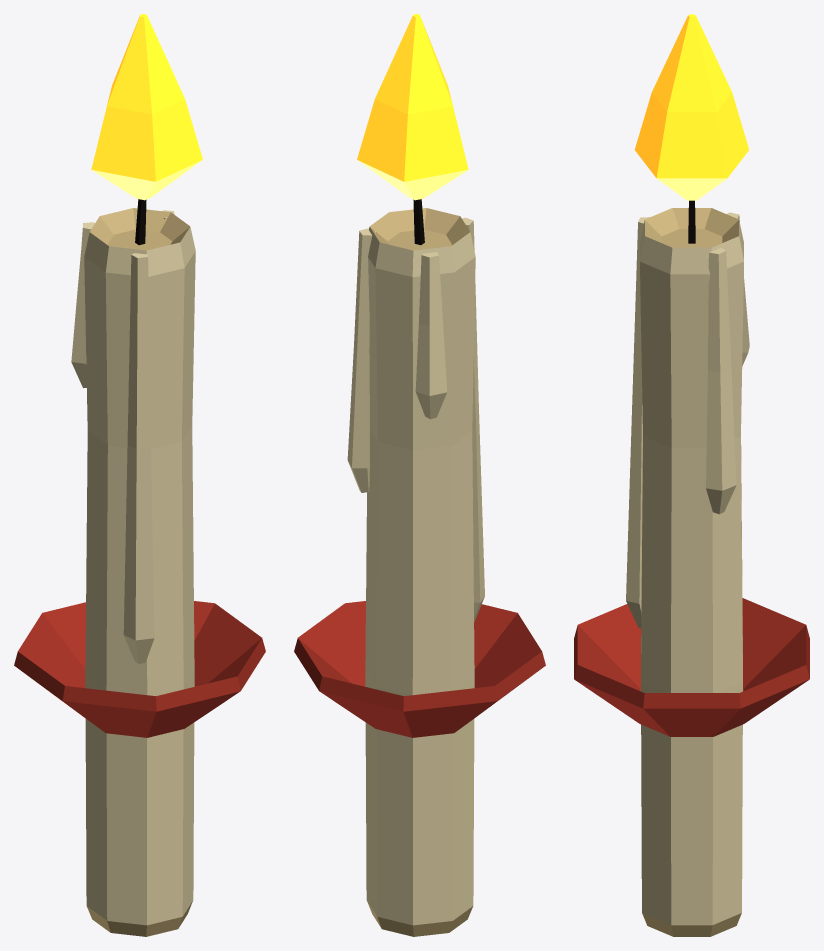
File: return_candle.glb
3 views of the same model, side by side, from view 1: azimuth 30°, elevation 25°; view 2: azimuth 150°, elevation 25°; view 3: azimuth 270°, elevation 25° (orthographic).
Parts seen in each view (by area): view 1: return_candle; view 2: return_candle; view 3: return_candle.
Part boxes in pixels (left/top/right/bottom): return_candle: left=14, top=14, right=265, bottom=936; return_candle: left=294, top=14, right=545, bottom=936; return_candle: left=574, top=14, right=809, bottom=936.
Size of the model in its own units: 0.061 by 0.258 by 0.061.
